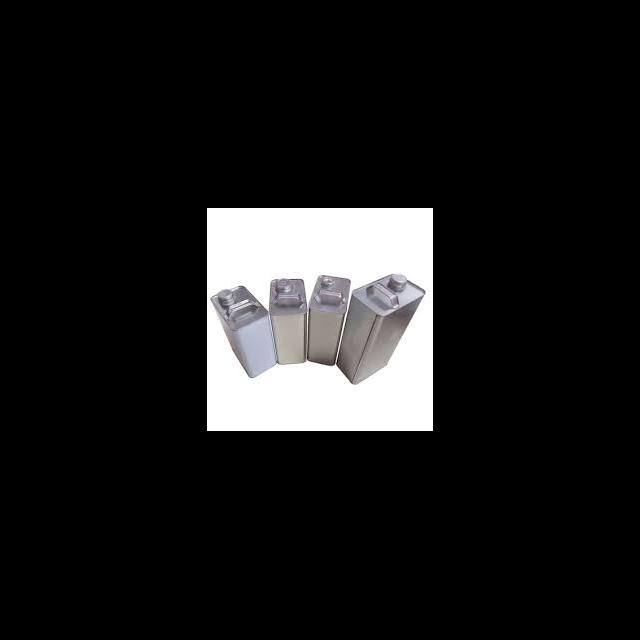metal: (334, 272, 424, 384), (210, 284, 276, 378), (307, 274, 350, 366), (268, 278, 305, 364)
